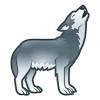Lobo: (11, 4, 88, 96)
